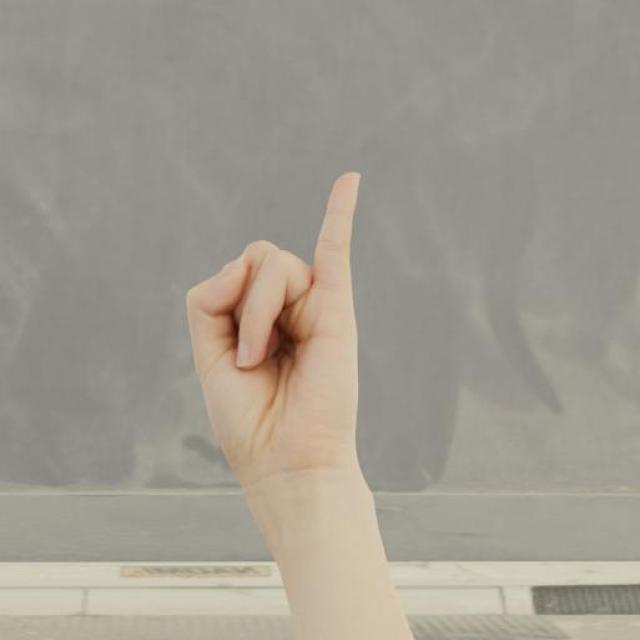I: (137, 142, 408, 523)
